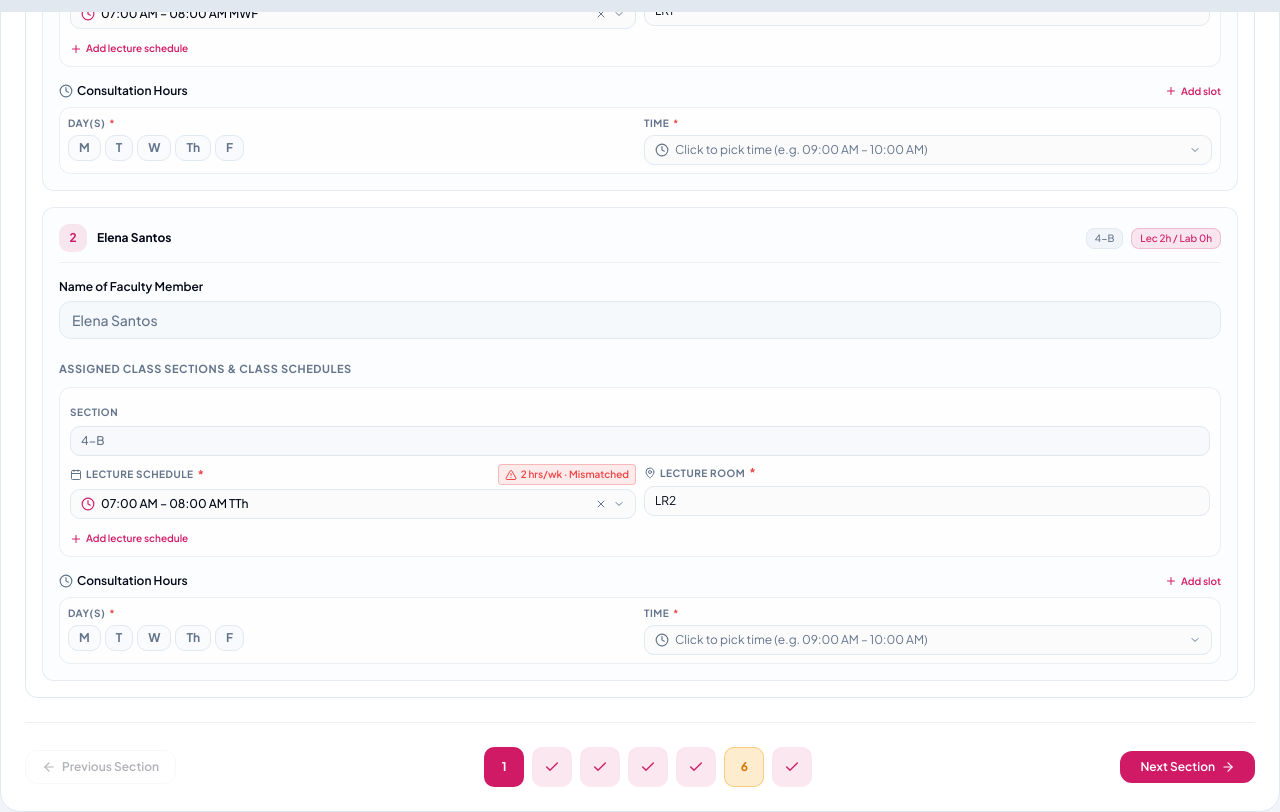
Scenario: SyllabusWizard schedule mismatch › shows the mismatch chip on Section 1 only
(page scrolled)
Step 1. Click the button "Next Section" → click(1188, 767), box [1120, 751, 1255, 783]
(page scrolled)
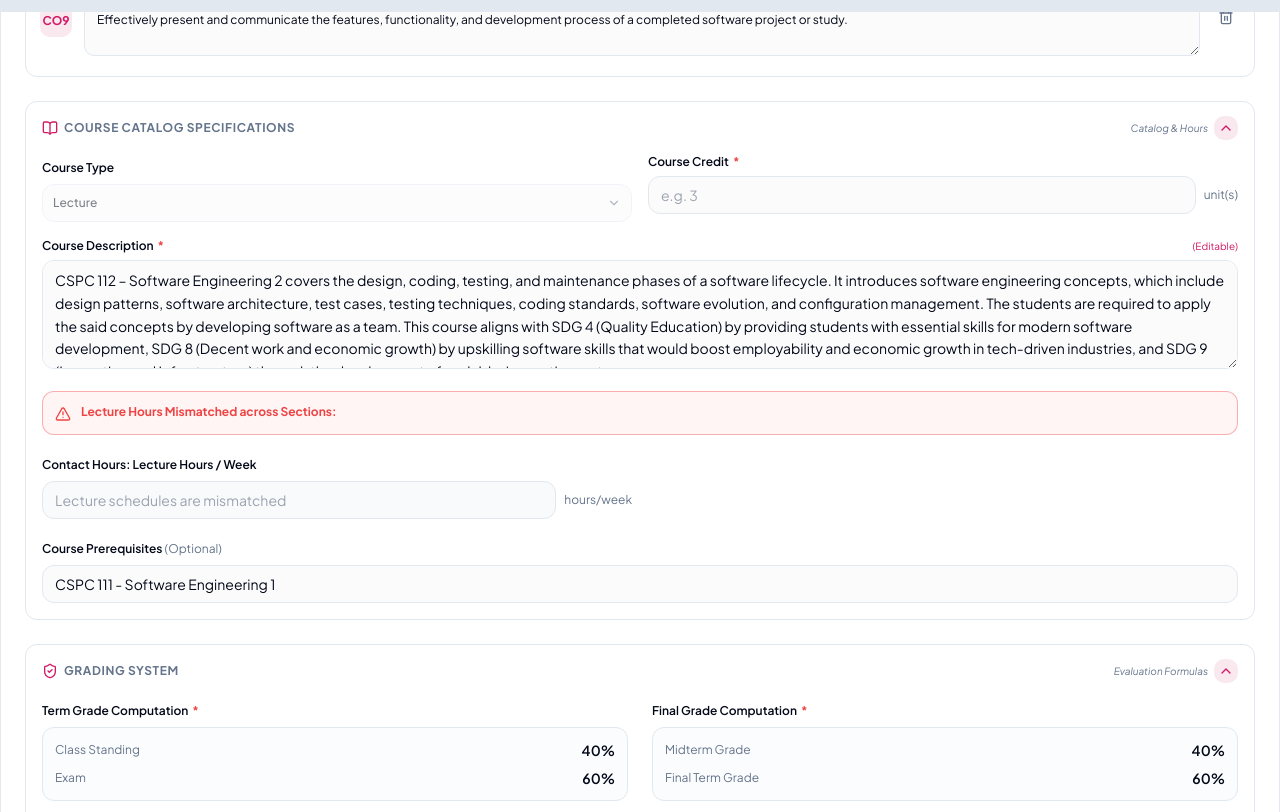
Expected: the text "Lecture Hours Mismatched across Sections:" is shown, [81, 404, 336, 419]
